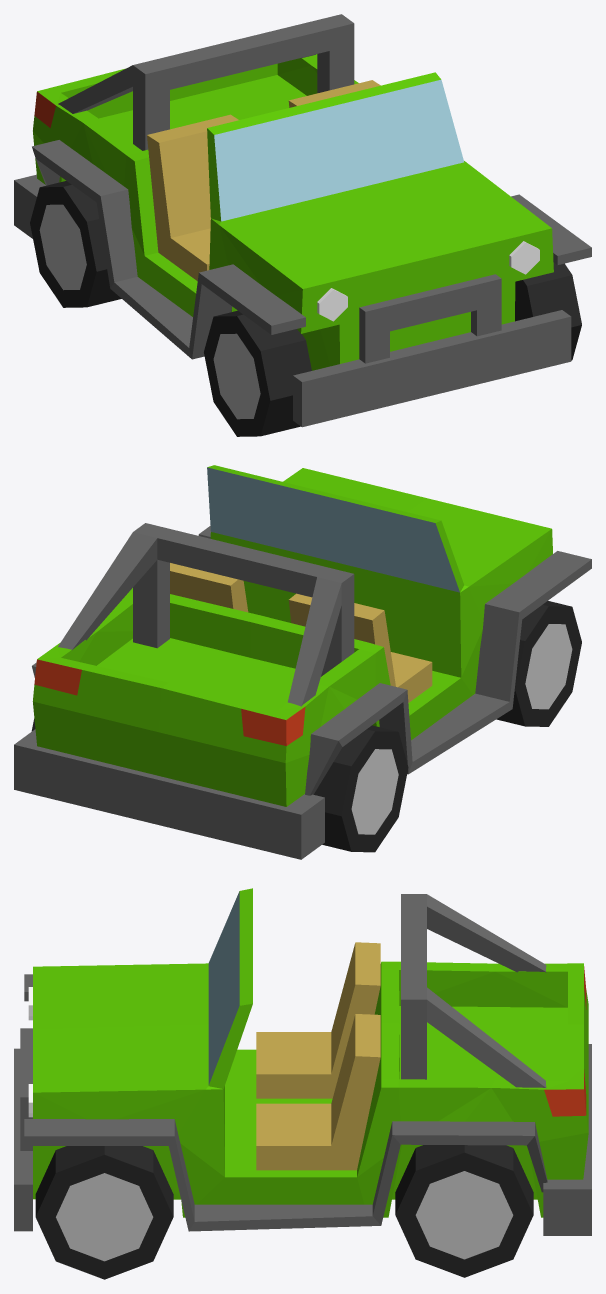
Rendered from Jeep.fbx.
The picture shows the model from 3 angles, top to bottom: view 1: azimuth 30°, elevation 25°; view 2: azimuth 150°, elevation 25°; view 3: azimuth 270°, elevation 25°; orthographic projection. The views are drawn at different scales.
Visible parts, largest first — view 1: Jeep; view 2: Jeep; view 3: Jeep.
Part boxes in pixels (bbox=[...]): Jeep: bbox=[14, 14, 591, 436]; Jeep: bbox=[14, 465, 591, 859]; Jeep: bbox=[14, 888, 591, 1279].
Bounding box in the file's own units: 383 × 281 × 577.
